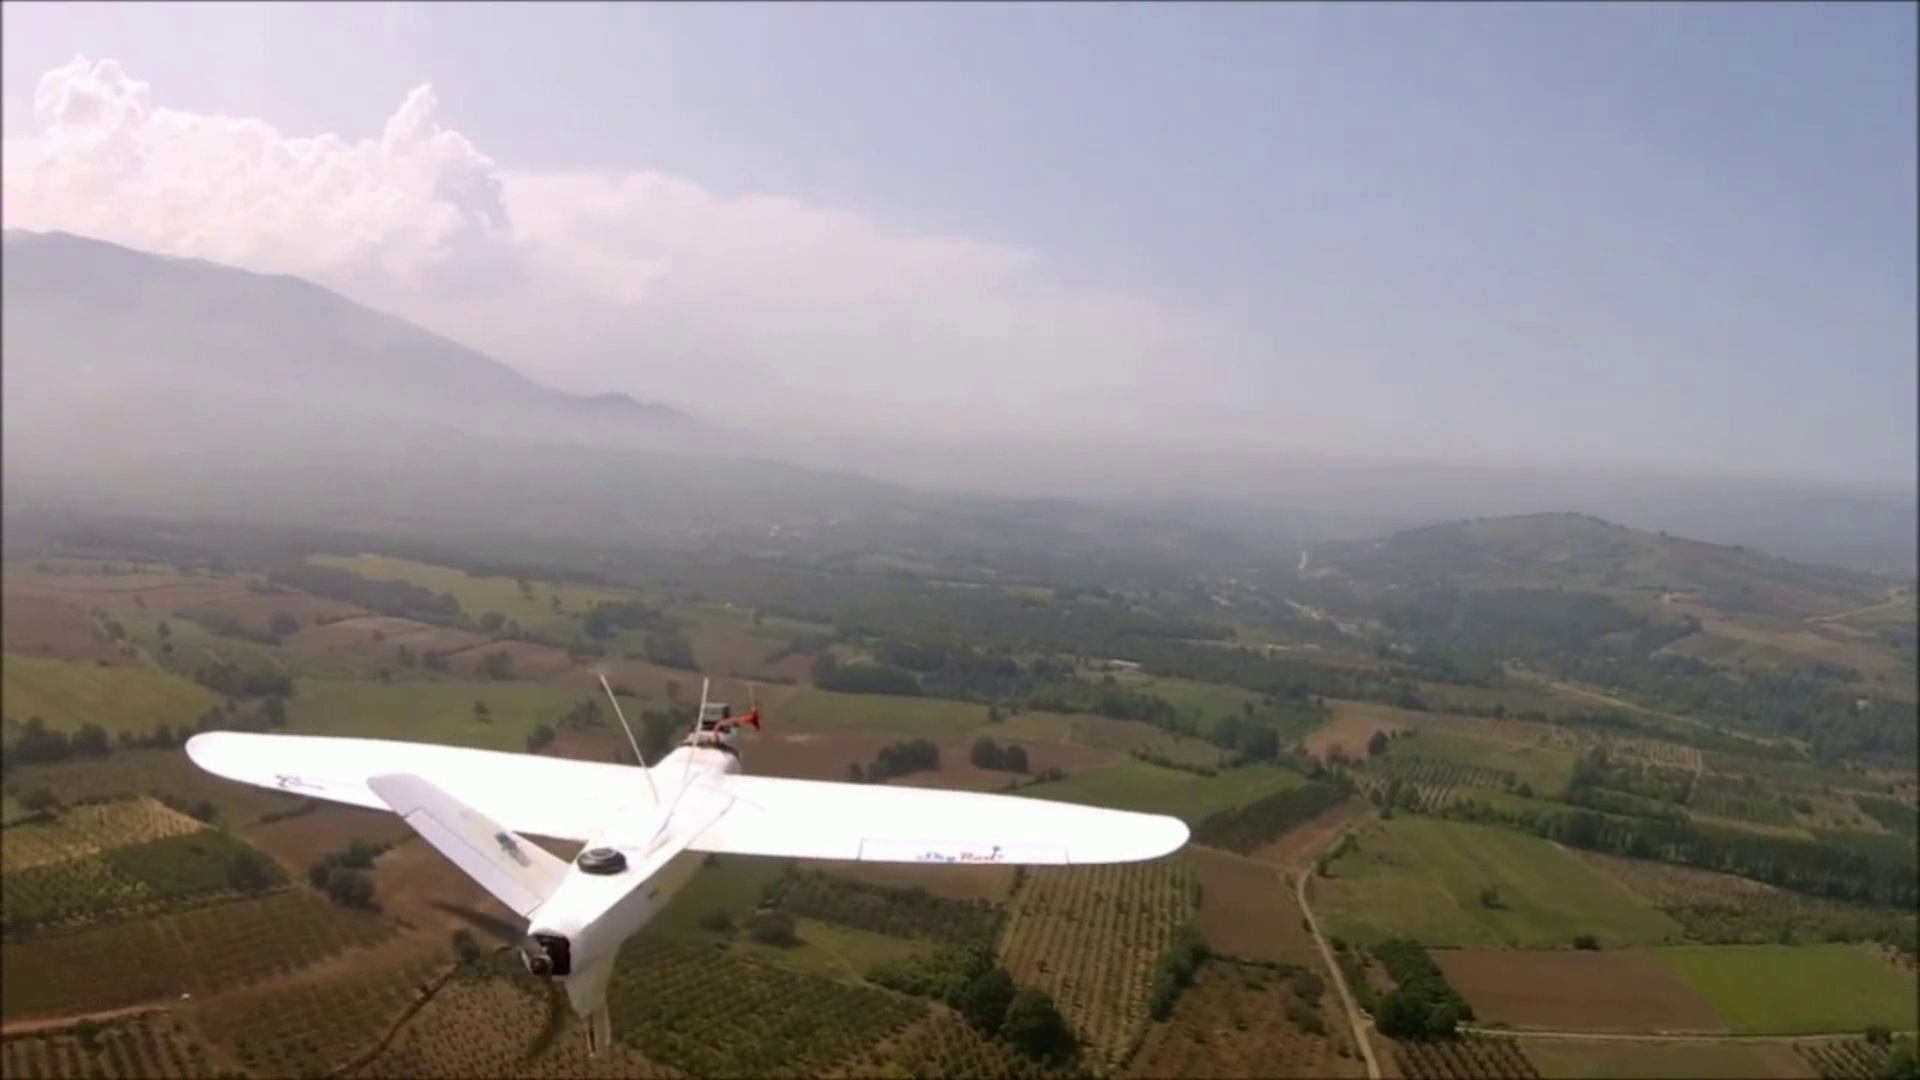airplane: (189, 688, 1193, 1052)
